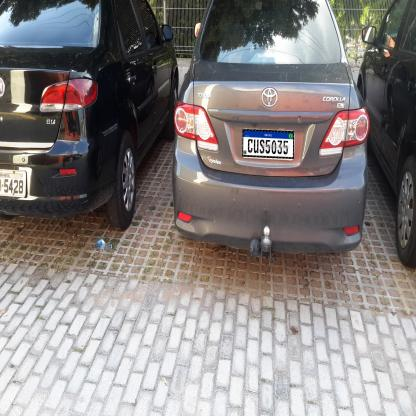PlacaM: (242, 129, 294, 159)
